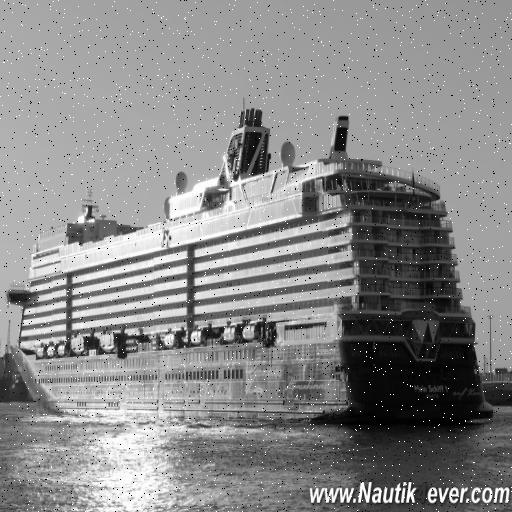cruises: (6, 94, 502, 444)
